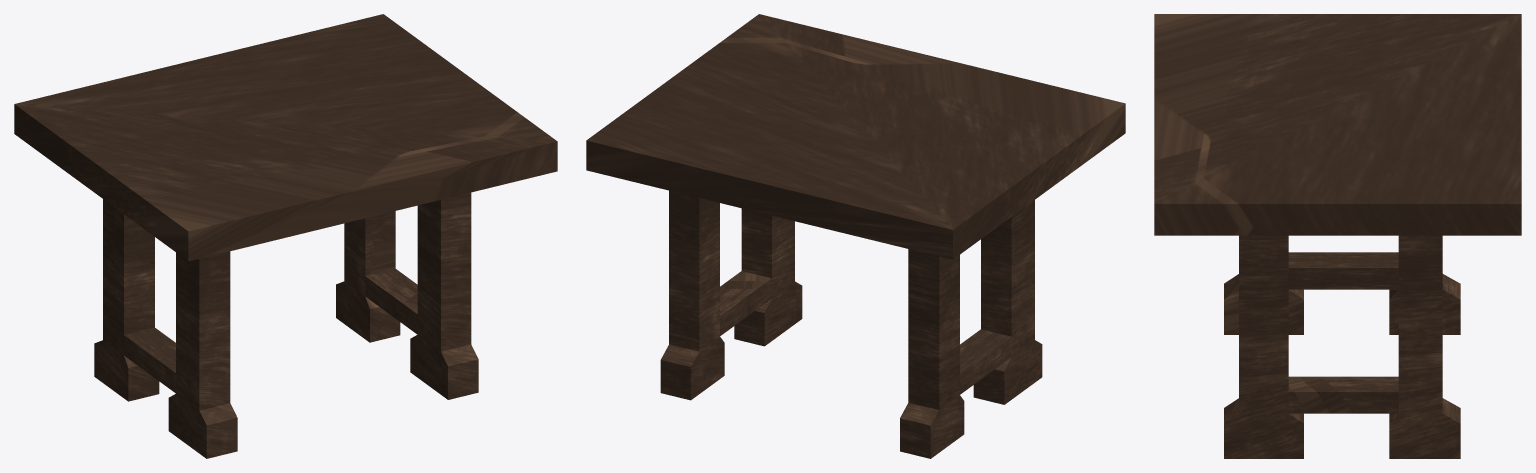
The model's file is desk_servantroom.fbx.
The picture shows the model from 3 angles, left to right: view 1: azimuth 30°, elevation 25°; view 2: azimuth 150°, elevation 25°; view 3: azimuth 270°, elevation 25°; orthographic projection. The views are drawn at different scales.
Visible parts, largest first — view 1: small_desk; view 2: small_desk; view 3: small_desk.
Part boxes in pixels (box(x1,y1,x2,y2)): small_desk: box(14, 14, 557, 458); small_desk: box(586, 14, 1125, 458); small_desk: box(1154, 14, 1521, 458).
Size of the model in its own units: 161 by 110 by 132.
